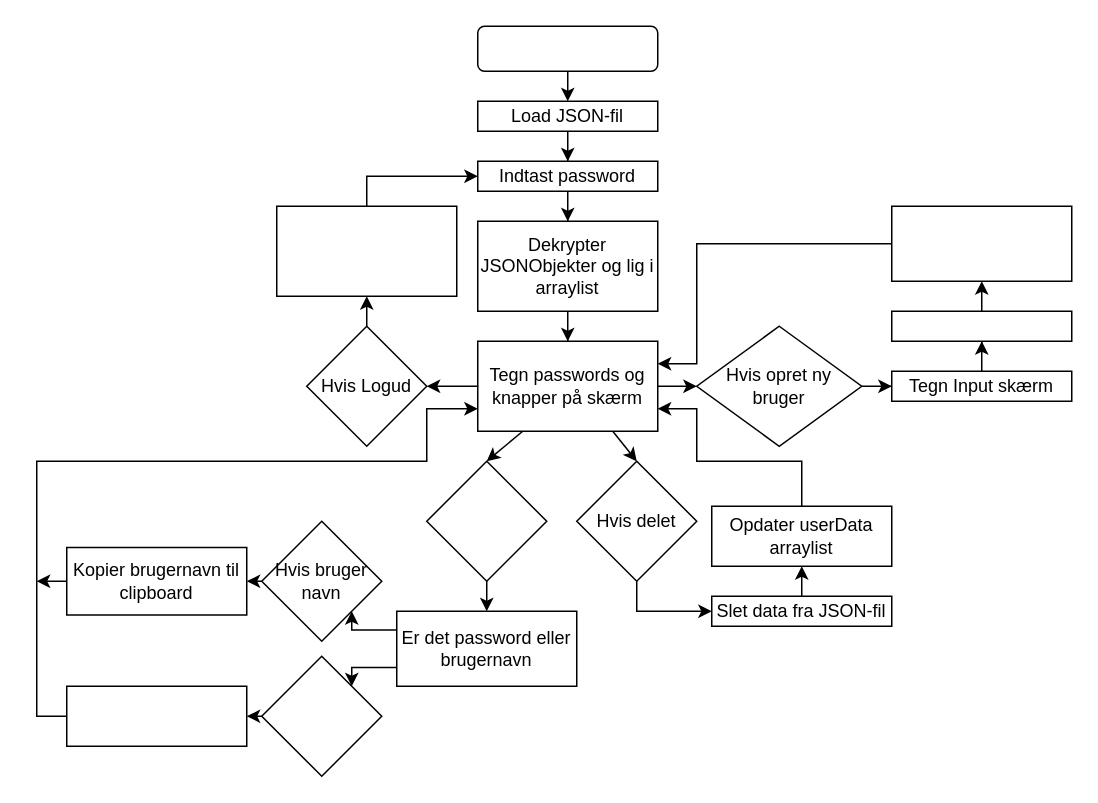
Some shapes in this 1098 by 803 pixel diagram are drawn without their labels. Here are the shapes that lost their labels. From the top down, the centre of each, then its label:
At point 567,48: "Start program".
At point 366,250: "Nulstil arraylist".
At point 981,243: "Krypter input og gem i JSON-fil".
At point 981,325: "Læg input i arraylist".
At point 486,520: "Hvis copy".
At point 156,715: "Kopier password til clipboard".
At point 321,715: "Hvis password".
